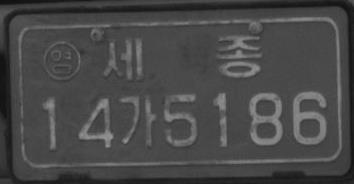1: (204, 91, 241, 147), (35, 95, 69, 150)
4: (77, 96, 115, 147)
5: (161, 92, 199, 148)
6: (292, 90, 327, 145)
8: (247, 91, 283, 146)
가: (118, 94, 156, 147)
세종_D: (102, 33, 262, 80)
영: (42, 39, 81, 81)
